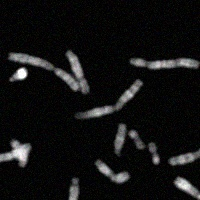chromosome: (77, 78, 145, 121), (8, 53, 77, 90), (130, 54, 200, 71), (167, 137, 200, 167), (68, 50, 90, 93), (93, 160, 130, 183), (0, 142, 31, 163), (175, 175, 200, 200), (11, 137, 27, 166), (111, 124, 126, 154), (66, 177, 81, 200), (7, 67, 27, 83), (129, 129, 144, 150), (147, 141, 160, 164)
